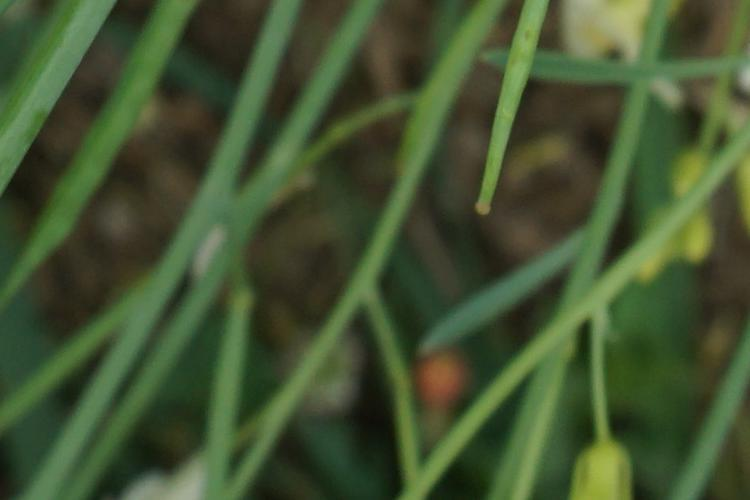pod: (470, 7, 559, 241)
